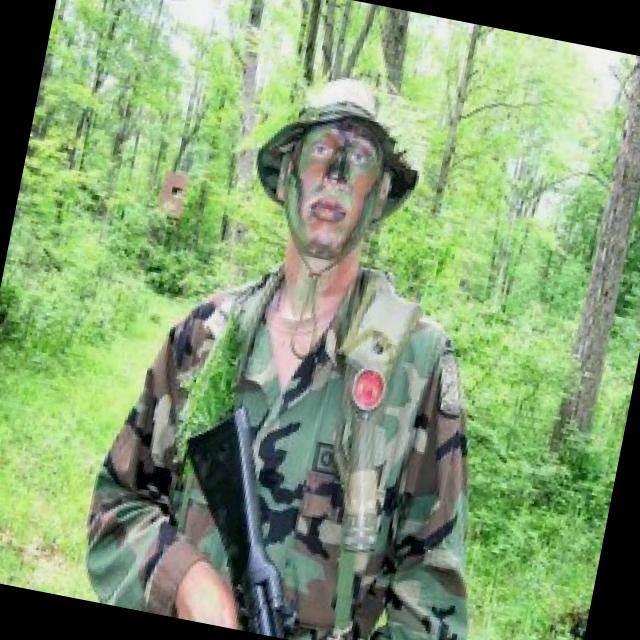long weapon: (141, 412, 357, 639)
